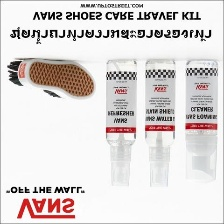cleaning_solution: (102, 56, 140, 191), (182, 56, 220, 185), (142, 56, 178, 190)
